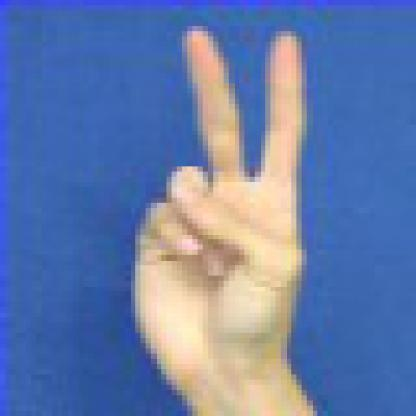two: (112, 23, 326, 396)
